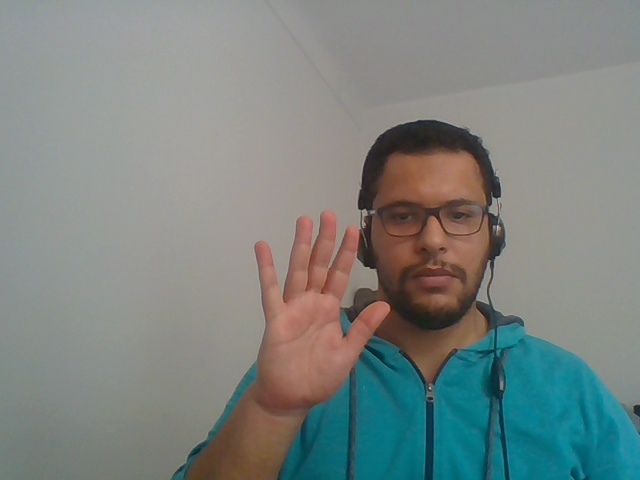hello: (229, 190, 398, 466)
